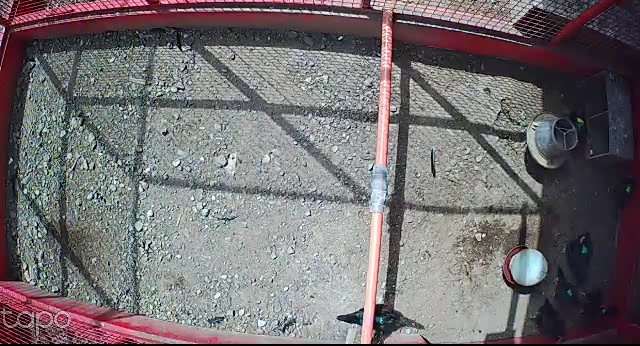Chicken: (332, 302, 418, 336), (528, 299, 576, 346), (549, 267, 589, 320), (561, 231, 595, 293), (564, 104, 588, 150)
Drinker: (503, 245, 548, 287)
Feeder: (528, 111, 580, 168)
Saddle_Color_YellowGreen: (575, 118, 584, 128)
